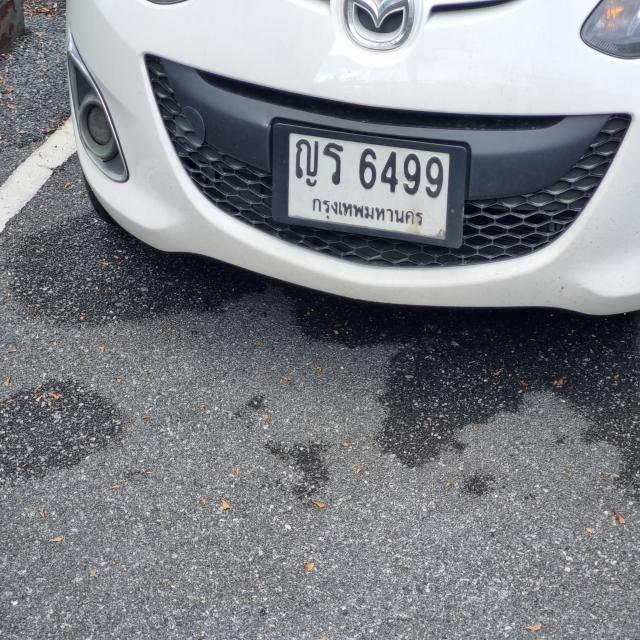license_plate: (272, 115, 470, 254)
